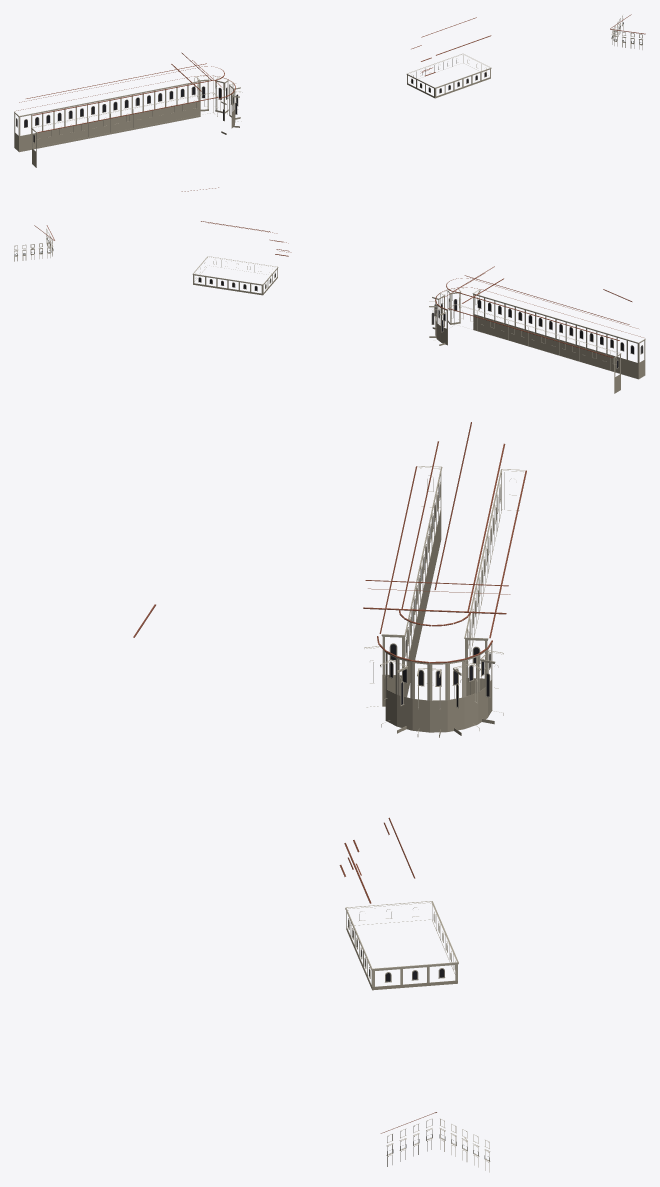
3 views of the same model, one above another, from view 1: azimuth 30°, elevation 25°; view 2: azimuth 150°, elevation 25°; view 3: azimuth 270°, elevation 25° (orthographic). The views are drawn at different scales.
Visible parts, largest first — view 1: detail; view 2: detail; view 3: detail.
Boxes of the visible parts, x1=… form: detail: x1=14, y1=14, x2=645, y2=191; detail: x1=14, y1=221, x2=645, y2=393; detail: x1=133, y1=422, x2=526, y2=1172.
Size of the model in its own units: 319 by 41.04 by 89.92.
